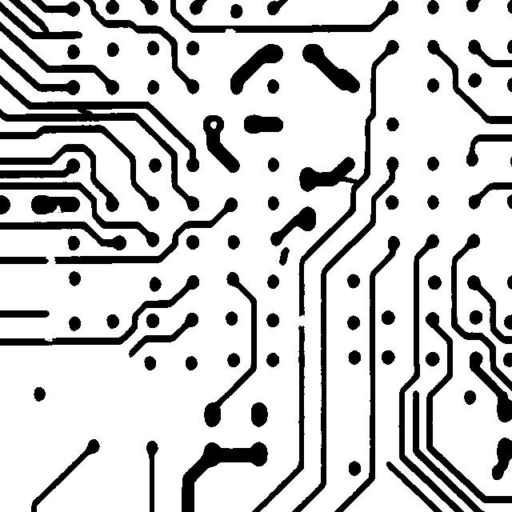copper: (271, 239, 297, 273)
mousebite: (45, 198, 69, 221), (217, 21, 243, 42), (36, 327, 60, 349)
open: (287, 307, 314, 334), (38, 246, 63, 274)
pin-hole: (202, 114, 224, 136)
short: (323, 167, 366, 190), (26, 10, 56, 42), (70, 98, 100, 123)
